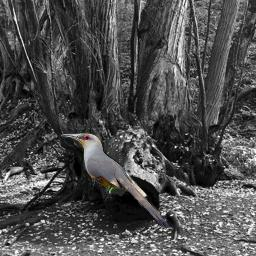Cuckoo: (60, 132, 174, 232)
